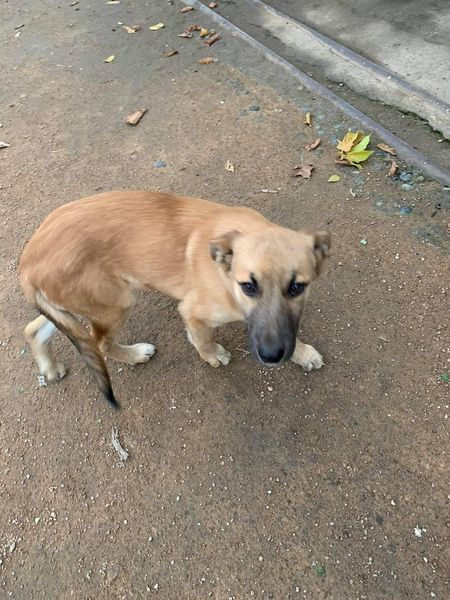dog: (14, 183, 349, 418)
